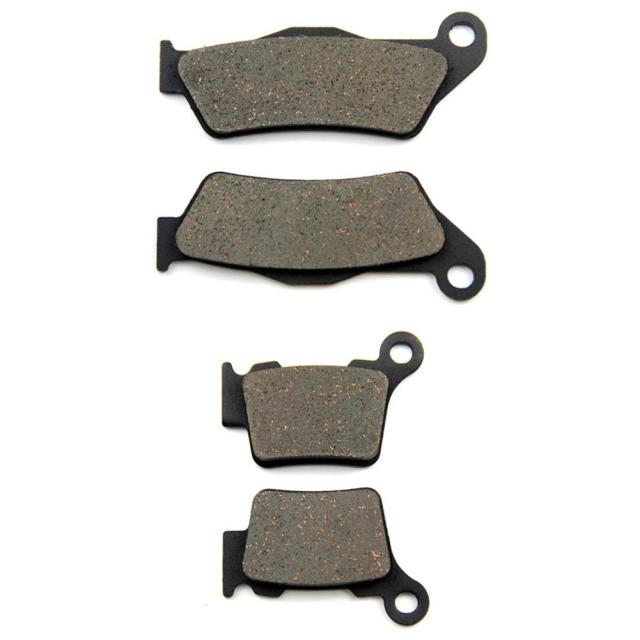brake_pad: (150, 162, 508, 310), (142, 6, 493, 147), (204, 329, 450, 477), (194, 490, 454, 629)
